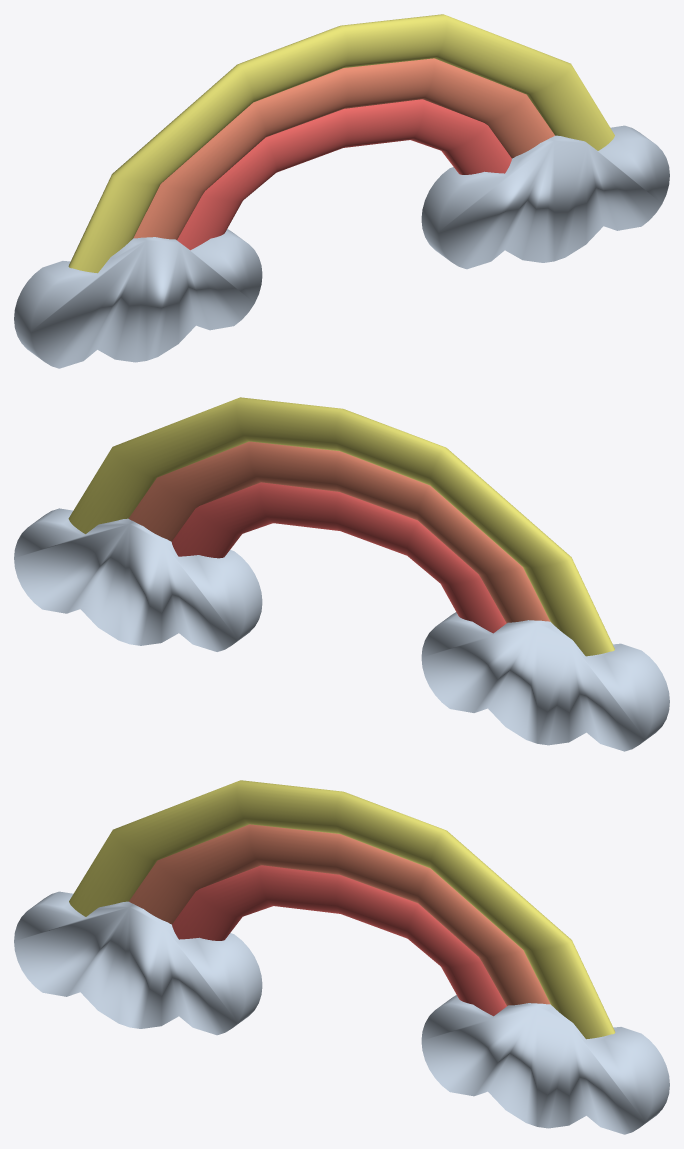
File: 무지개.fbx
3 views of the same model, one above another, from view 1: azimuth 30°, elevation 25°; view 2: azimuth 150°, elevation 25°; view 3: azimuth 330°, elevation 25° (orthographic).
Parts seen in each view (by area): view 1: Circle.004, Circle.002, Circle.001, Circle; view 2: Circle.004, Circle.002, Circle.001, Circle; view 3: Circle.004, Circle.002, Circle.001, Circle.
Boxes of the visible parts, x1=… form: Circle.004: x1=14, y1=125, x2=669, y2=368; Circle.002: x1=68, y1=14, x2=614, y2=273; Circle.001: x1=133, y1=58, x2=554, y2=239; Circle: x1=177, y1=99, x2=511, y2=250; Circle.004: x1=14, y1=508, x2=669, y2=751; Circle.002: x1=68, y1=397, x2=614, y2=656; Circle.001: x1=128, y1=441, x2=550, y2=623; Circle: x1=171, y1=482, x2=506, y2=633; Circle.004: x1=14, y1=891, x2=669, y2=1134; Circle.002: x1=69, y1=780, x2=615, y2=1039; Circle.001: x1=129, y1=824, x2=550, y2=1005; Circle: x1=172, y1=865, x2=506, y2=1016.
Size of the model in its own units: 252 by 105 by 11.65.
